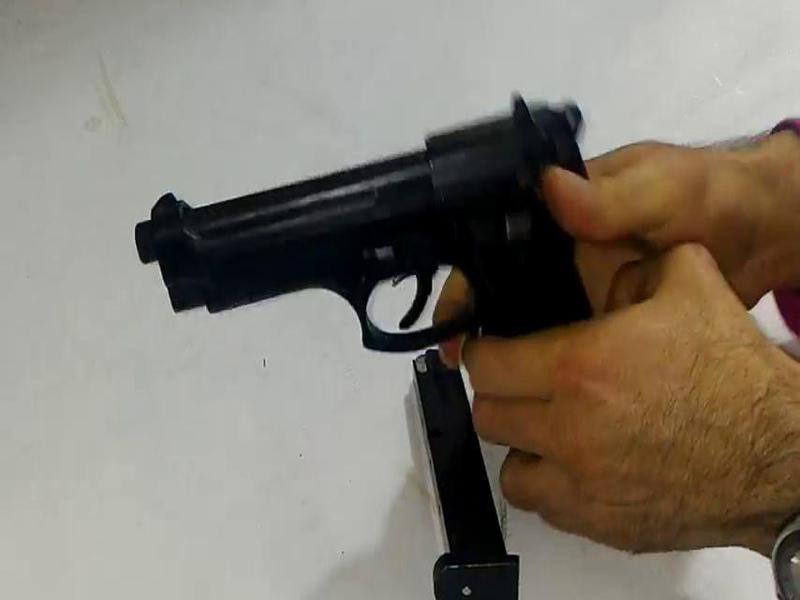Pistola: (117, 89, 636, 430)
